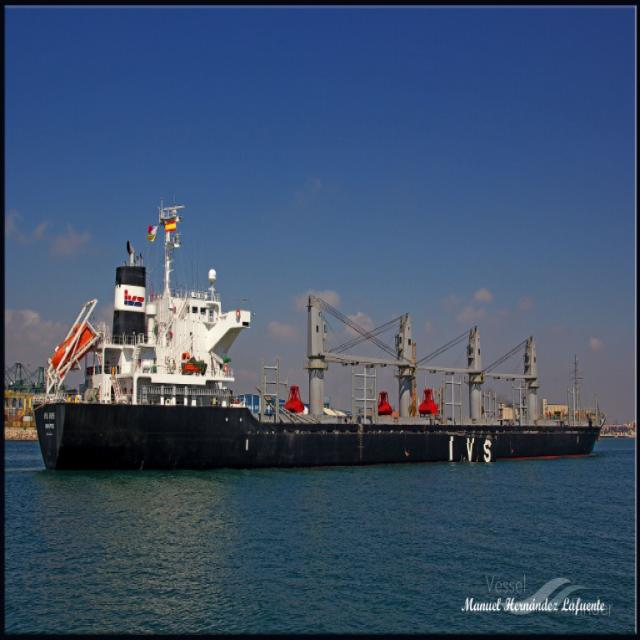OCR: (443, 430, 498, 462)
